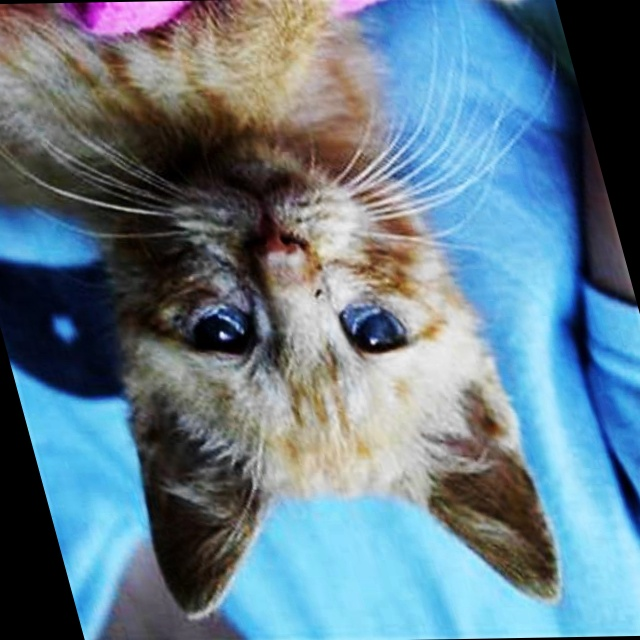eye_infection: (166, 303, 263, 360), (337, 302, 420, 361)
